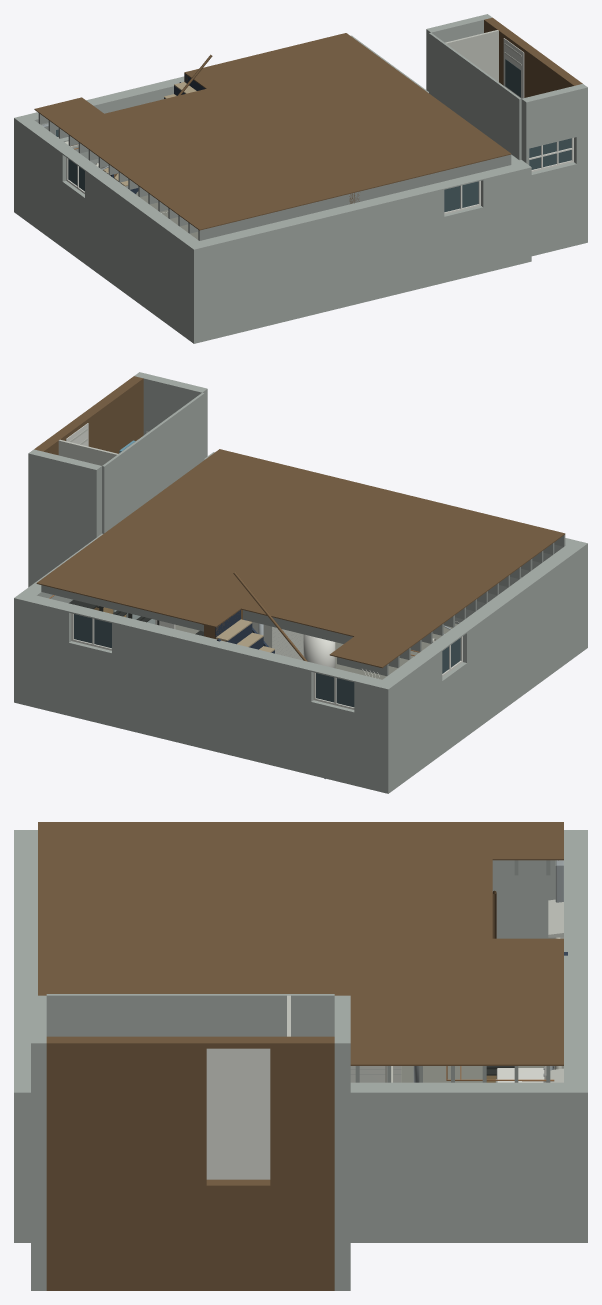
The picture shows the model from 3 angles, top to bottom: view 1: azimuth 30°, elevation 25°; view 2: azimuth 150°, elevation 25°; view 3: azimuth 270°, elevation 25°; orthographic projection. The views are drawn at different scales.
Parts seen in each view (by area): view 1: Foundation north/0/0.001, Main beam.001, Joist/0/0.001, Bulkhead far wall/0/0.001, Window stairs/dark glass.001, Bulkhead stair cheek.002, Window stairs/jamb-1.001; view 2: Foundation north/0/0.001, Main beam.001, Bulkhead far wall/0/0.001, Joist/0/0.001, Window stairs/dark glass.001, Window stairs/jamb-1.001, Bulkhead stair cheek.002, Existing slab.001, Kitchen stairs/Riser 01.001, Kitchen stairs/Tread 01.001; view 3: Main beam.001, Foundation north/0/0.001, Bulkhead far wall/0/0.001, Window stairs/jamb-1.001, Bulkhead stair cheek.002, Existing slab.001, Joist/0/0.001.
Boxes of the visible parts, x1,y1,x2,y2 form: Foundation north/0/0.001: (14, 14, 587, 343); Main beam.001: (34, 33, 511, 230); Joist/0/0.001: (38, 113, 511, 240); Bulkhead far wall/0/0.001: (114, 17, 582, 177); Window stairs/dark glass.001: (56, 59, 571, 212); Bulkhead stair cheek.002: (65, 30, 521, 147); Window stairs/jamb-1.001: (58, 38, 573, 214); Foundation north/0/0.001: (14, 372, 587, 793); Main beam.001: (36, 449, 565, 668); Bulkhead far wall/0/0.001: (34, 376, 307, 661); Joist/0/0.001: (41, 534, 565, 675); Window stairs/dark glass.001: (74, 614, 460, 707); Window stairs/jamb-1.001: (66, 423, 462, 709); Bulkhead stair cheek.002: (58, 428, 303, 660); Existing slab.001: (175, 623, 457, 679); Kitchen stairs/Riser 01.001: (215, 610, 325, 778); Kitchen stairs/Tread 01.001: (216, 619, 274, 652); Main beam.001: (38, 822, 563, 1065); Foundation north/0/0.001: (14, 830, 587, 1290); Bulkhead far wall/0/0.001: (46, 890, 563, 1290); Window stairs/jamb-1.001: (206, 937, 563, 1179); Bulkhead stair cheek.002: (287, 899, 563, 1082); Existing slab.001: (401, 1066, 563, 1082); Joist/0/0.001: (355, 860, 550, 1082).
Size of the model in its own units: 9.4 by 3.64 by 7.34.
